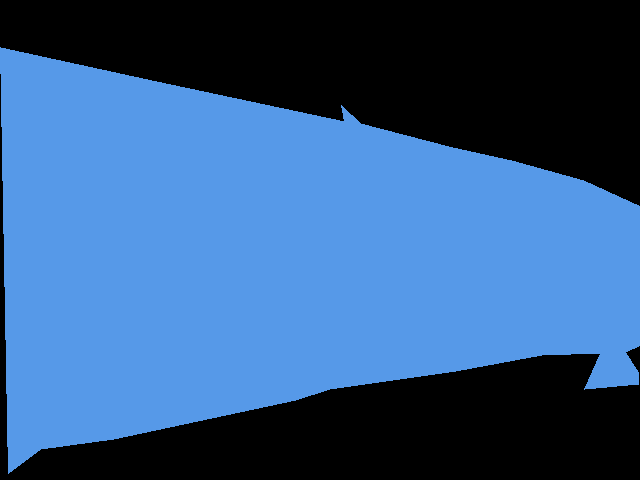Airplane: (0, 47, 640, 474)
